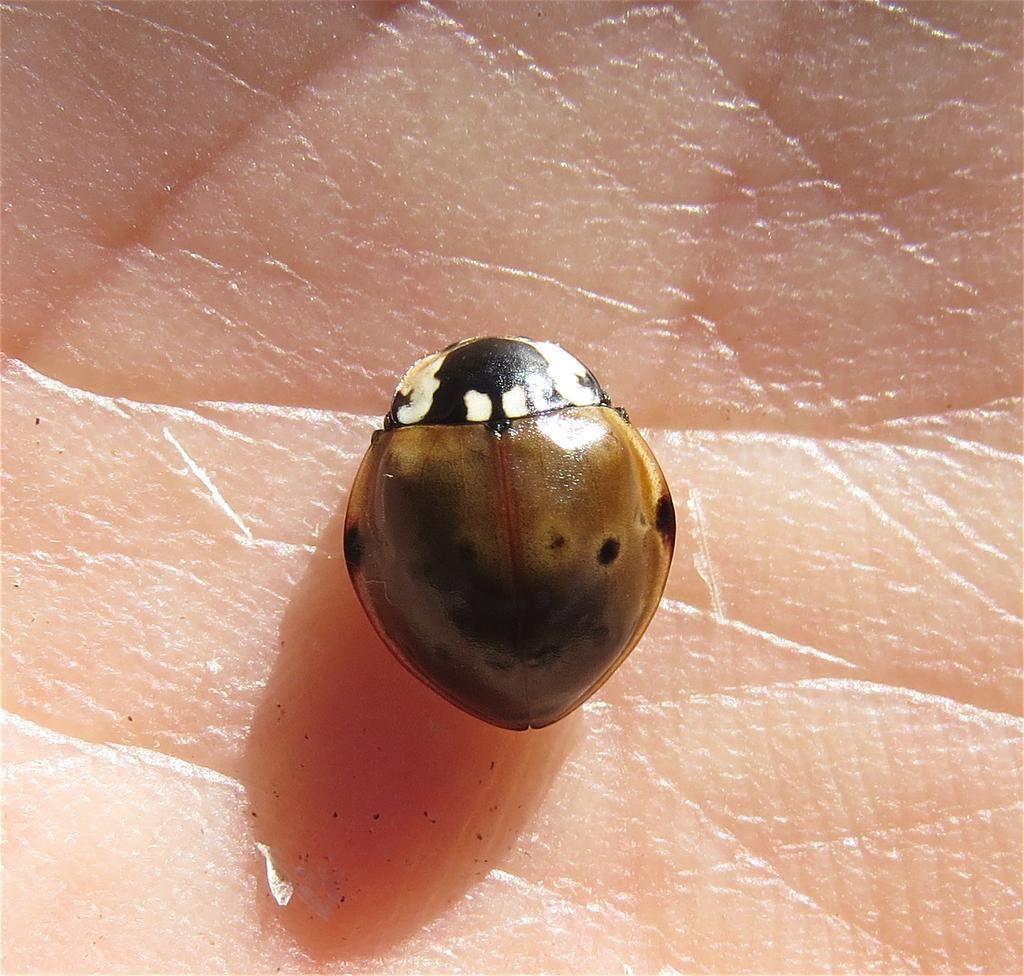ladybug: (344, 331, 684, 734)
